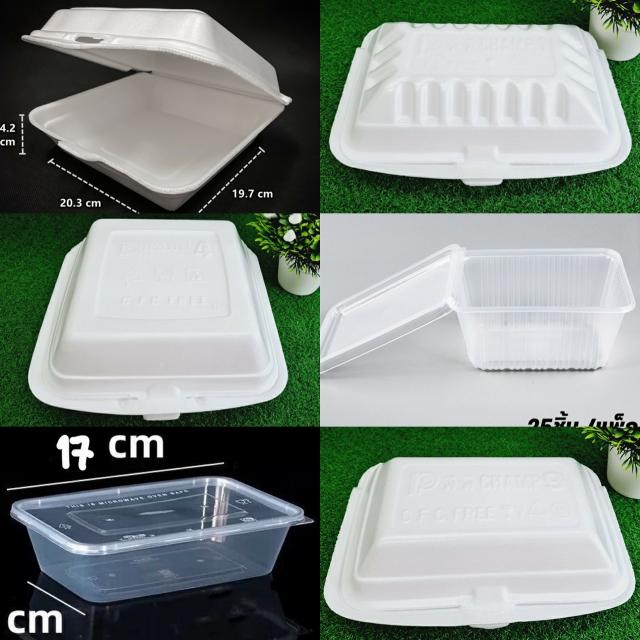Single-Use-Plastic: (23, 8, 291, 210), (324, 458, 634, 629), (29, 219, 288, 420), (330, 22, 630, 185), (11, 476, 309, 602), (454, 249, 635, 370), (320, 245, 464, 372)
